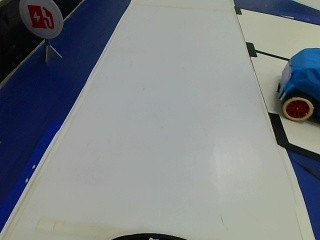battery: (19, 0, 64, 38)
car: (281, 44, 318, 127)
